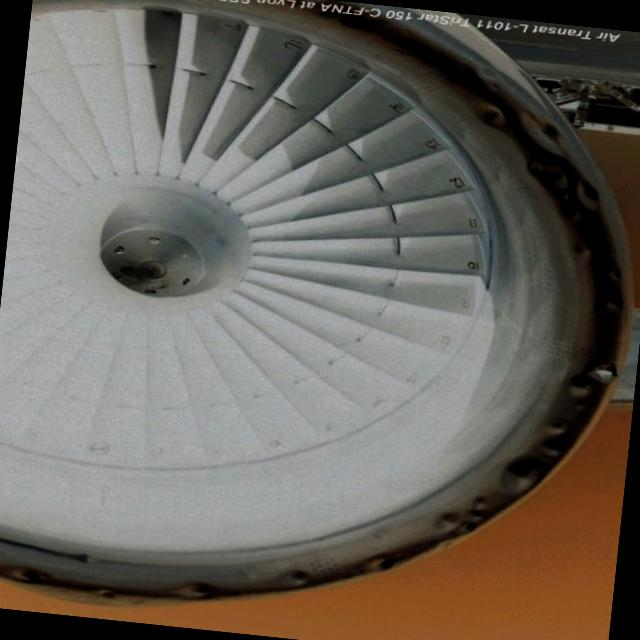dent: (452, 58, 632, 234), (493, 451, 561, 502)
